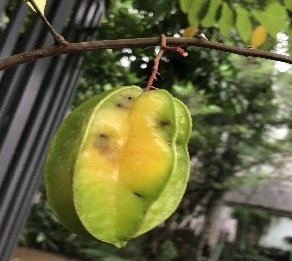Khe: (42, 82, 194, 251)
